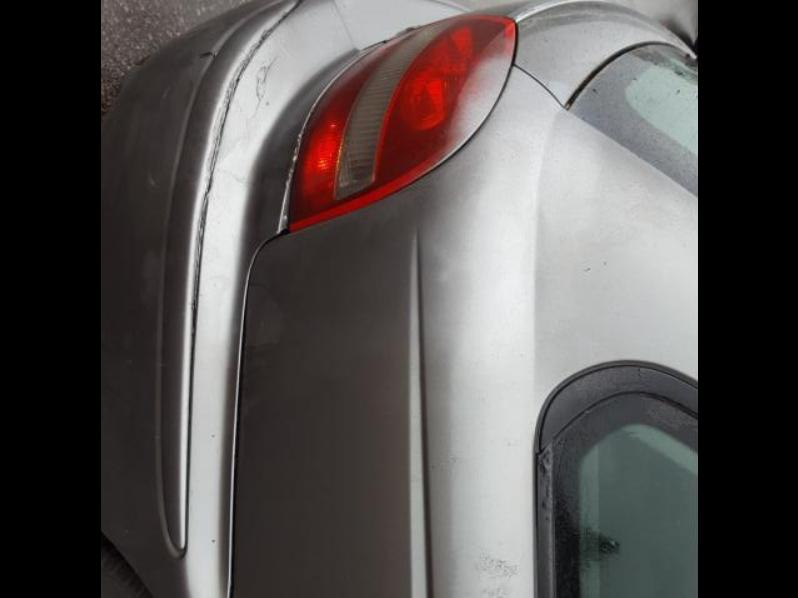Corrosion: (193, 23, 282, 320)
Dent: (253, 52, 281, 114)
Flaking: (236, 250, 283, 476), (121, 244, 177, 365), (471, 551, 517, 598)
